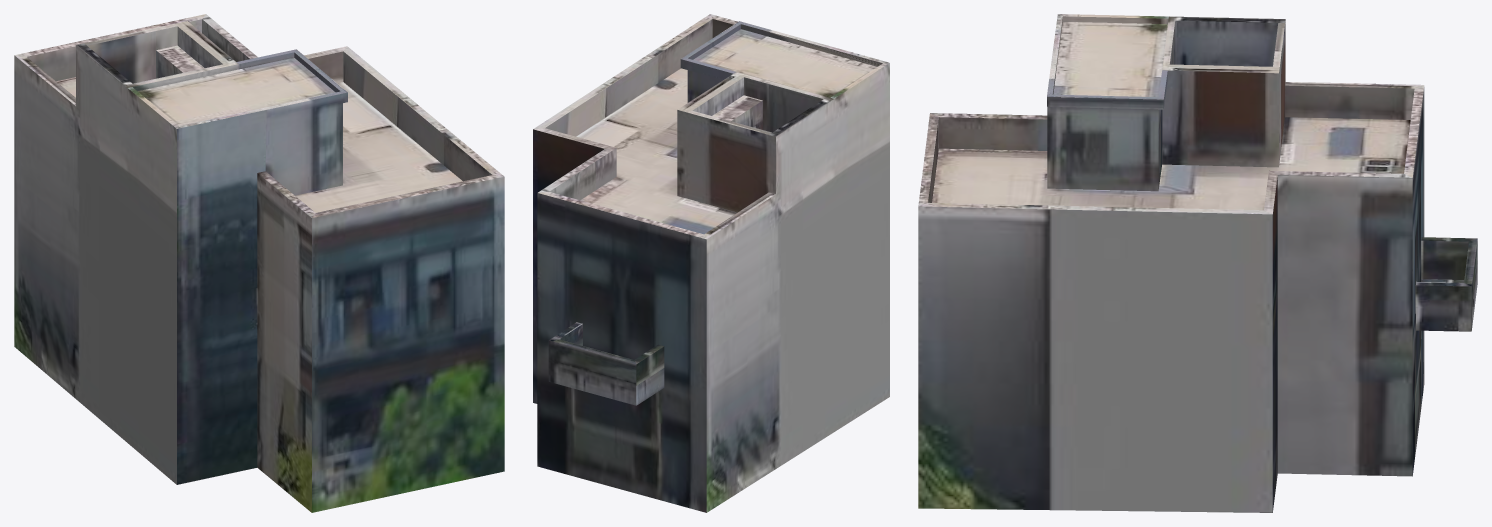
The picture shows the model from 3 angles, left to right: view 1: azimuth 30°, elevation 25°; view 2: azimuth 150°, elevation 25°; view 3: azimuth 270°, elevation 25°; orthographic projection. The views are drawn at different scales.
Parts seen in each view (by area): view 1: B283084030901062A0; view 2: B283084030901062A0; view 3: B283084030901062A0.
Part boxes in pixels (x1,y1,x2,y2): B283084030901062A0: (14, 14, 504, 512); B283084030901062A0: (533, 14, 889, 512); B283084030901062A0: (918, 14, 1477, 512).
Size of the model in its own units: 8.74 by 10.8 by 15.01.
Materials: 1 (1 with a texture image).
